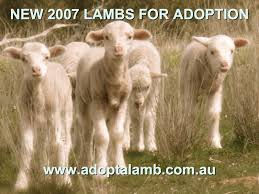sheep: (78, 21, 153, 174), (6, 43, 76, 188), (181, 33, 250, 151), (130, 60, 159, 153)
